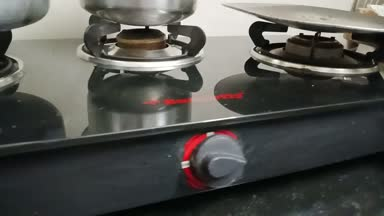flame_gas_off: (87, 19, 249, 191)
